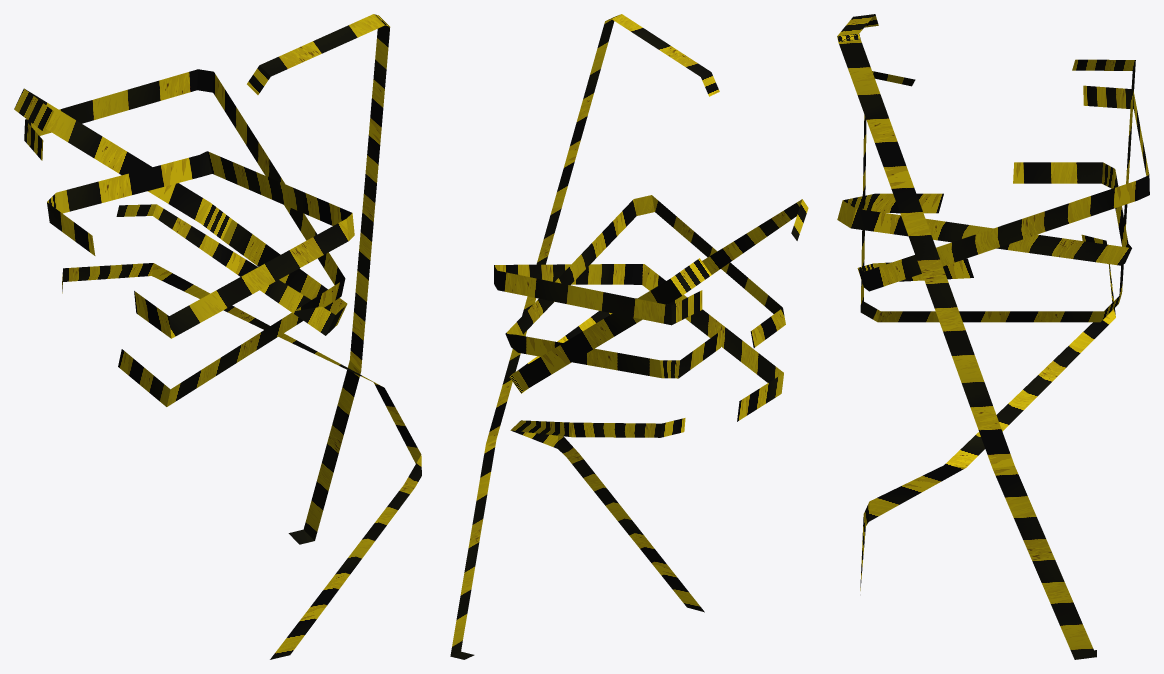
Rendered from SM_SlushStationTape.fbx.
3 renders of one model, left to right at view 1: azimuth 30°, elevation 25°; view 2: azimuth 150°, elevation 25°; view 3: azimuth 270°, elevation 25°, orthographic. The views are drawn at different scales.
Visible parts, largest first — view 1: SM_SlushStationTape; view 2: SM_SlushStationTape; view 3: SM_SlushStationTape.
Part boxes in pixels (x1=…): SM_SlushStationTape: x1=14, y1=14, x2=421, y2=659; SM_SlushStationTape: x1=450, y1=14, x2=808, y2=659; SM_SlushStationTape: x1=837, y1=14, x2=1149, y2=659.
Bounding box in the file's own units: 143 × 296 × 140.
1 material, 1 textured.
